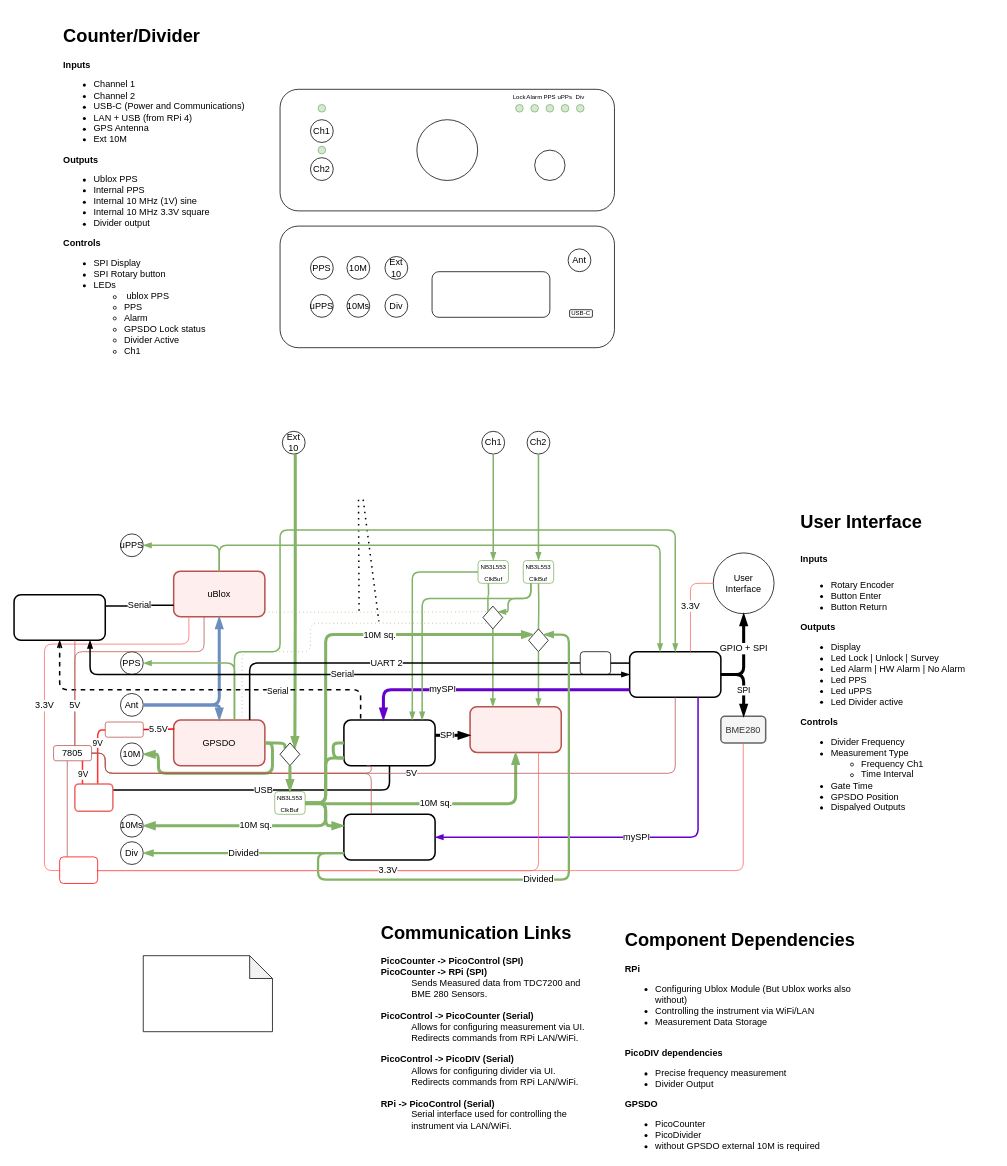
Image size: 1007x1166. Some labels were removed from this diagram. Each missing label, with the box of its shape:
10M mám pre clk_ref a na ešte jednom pine pre počítanie impulsov.: (142, 955, 272, 1032)
3.3V LT3042: (59, 856, 98, 884)
Display: (416, 119, 478, 180)
LM317: (104, 721, 143, 737)
Max 3232: (580, 651, 611, 674)
PicoControl 125M PIO: (629, 651, 721, 698)
PicoCounter 125M PIO: (343, 719, 435, 766)
PicoDIV 10M PIO: (343, 813, 435, 860)
Rot: (534, 149, 565, 180)
RPi: (13, 594, 106, 641)
RPi 4: (431, 271, 550, 317)
TDC7200: (469, 706, 562, 753)
USB-C PD: (74, 783, 113, 812)
